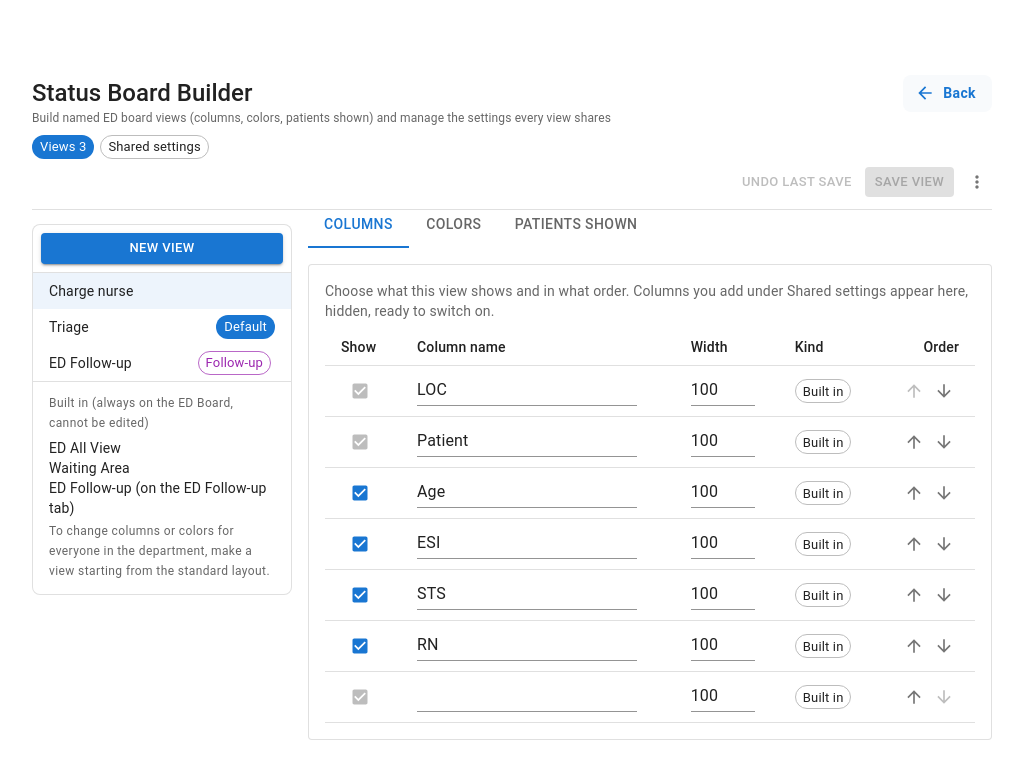
Scenario: follow-up views › the preview shows sample discharged patients with the flag
expect the button with test id "view-item-1" is shown: met, box left=33, top=273, right=291, bottom=309
Step 1. Click the button with test id "view-item-3" → (90, 363), box left=33, top=345, right=291, bottom=381
(page scrolled)
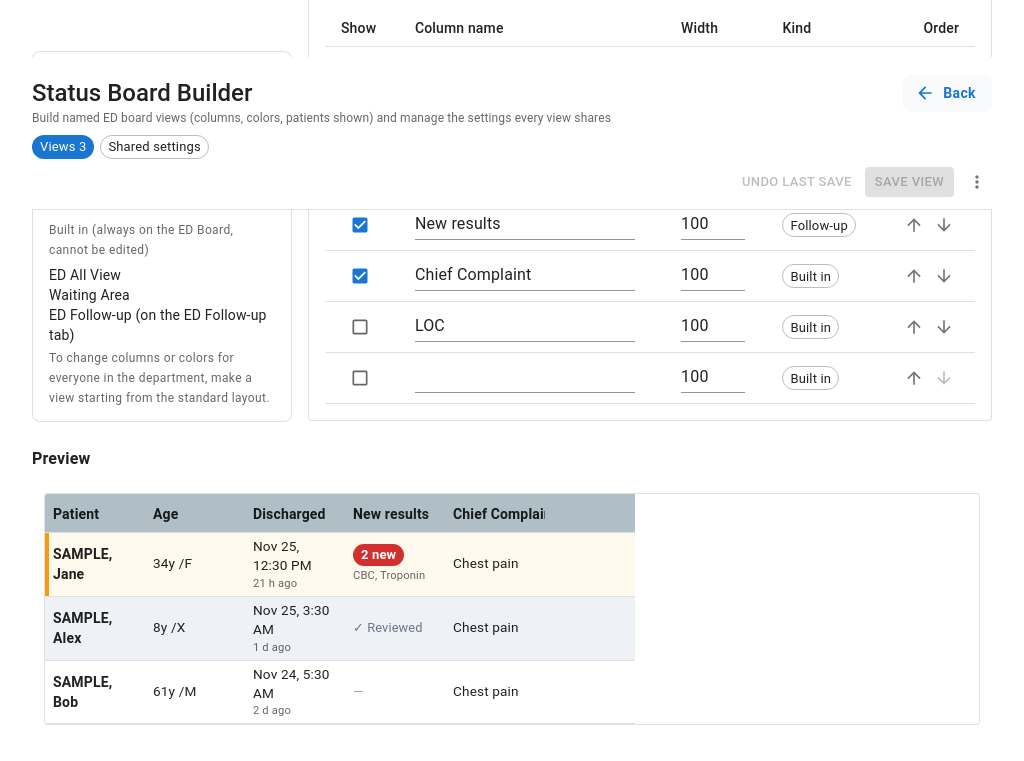
expect the text "SAMPLE, Jane" is shown: met, box left=53, top=546, right=112, bottom=582
expect the text "2 new" is shown: met, box left=361, top=547, right=396, bottom=562
expect the button "Discharged" is shown: met, box left=253, top=506, right=326, bottom=522
